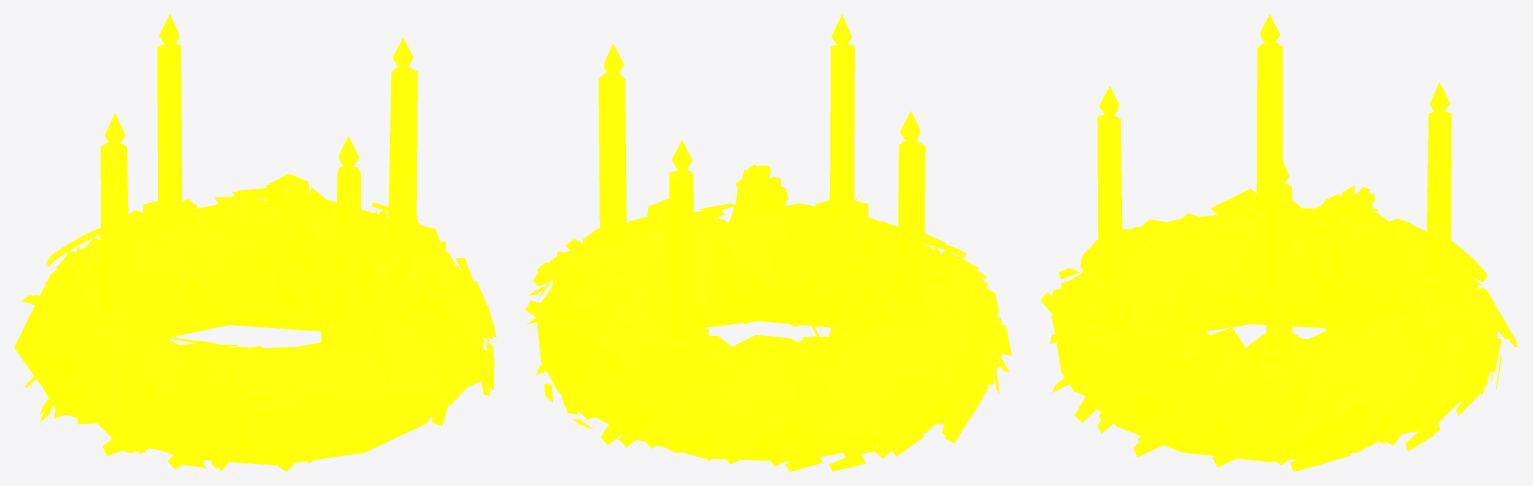
Rendered from wreath-advent-a.glb.
3 renders of one model, left to right at view 1: azimuth 30°, elevation 25°; view 2: azimuth 150°, elevation 25°; view 3: azimuth 270°, elevation 25°, orthographic. The views are drawn at different scales.
Parts seen in each view (by area): view 1: wreath_advent_a; view 2: wreath_advent_a; view 3: wreath_advent_a.
Part boxes in pixels (box(x1,y1,x2,y2)): wreath_advent_a: box(14, 14, 496, 471); wreath_advent_a: box(525, 14, 1011, 471); wreath_advent_a: box(1040, 14, 1518, 471).
Size of the model in its own units: 0.5754 by 0.3977 by 0.5667.
2 materials, 2 textured.
